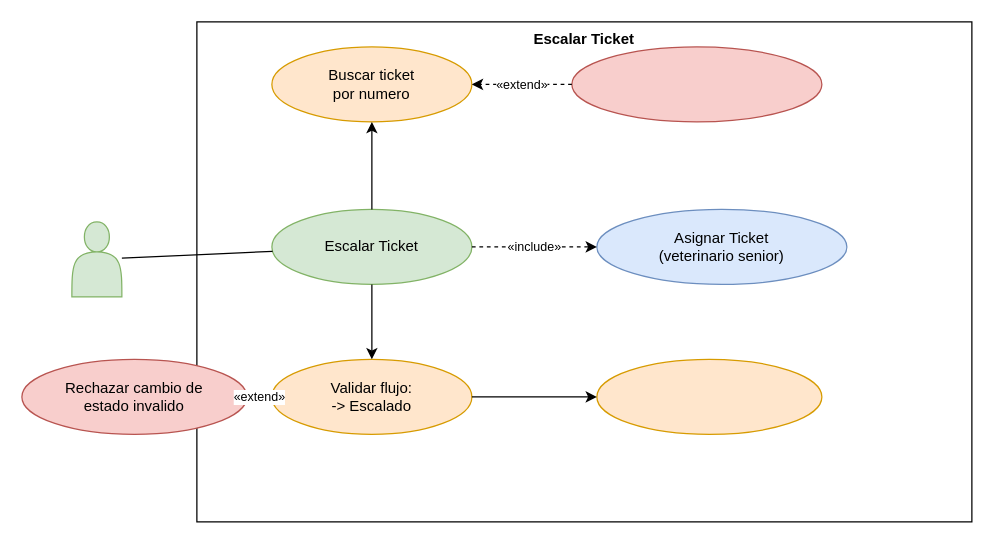
Image size: 994x544. Some labels were removed from this diagram. The shapes that lost their labels are listed below. From the top down, each one's centre as x and y in pixels, then its label:
At [696,84]: "Notificar ticket no encontrado".
At [96,259]: "Veterinario".
At [709,396]: "Elevar prioridad a Emergencia".
